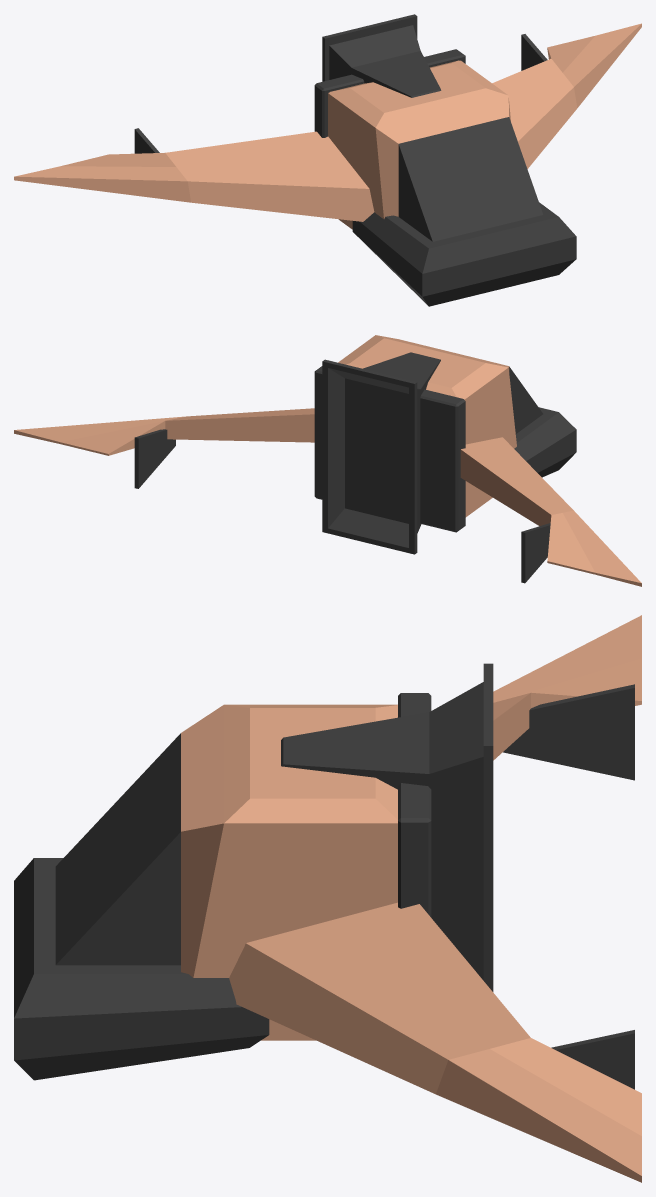
File: Ship2.fbx
The picture shows the model from 3 angles, top to bottom: view 1: azimuth 30°, elevation 25°; view 2: azimuth 150°, elevation 25°; view 3: azimuth 270°, elevation 25°; orthographic projection. The views are drawn at different scales.
Parts seen in each view (by area): view 1: ArmorPlate.001, Wing.001, Jet.001; view 2: Jet.001, Wing.001, ArmorPlate.001; view 3: ArmorPlate.001, Wing.001, Jet.001.
Boxes of the visible parts, left/top/right/bottom form: ArmorPlate.001: left=328, top=60, right=576, bottom=306; Wing.001: left=14, top=23, right=641, bottom=221; Jet.001: left=314, top=14, right=465, bottom=137; Jet.001: left=314, top=352, right=465, bottom=554; Wing.001: left=14, top=408, right=641, bottom=586; ArmorPlate.001: left=338, top=335, right=576, bottom=517; ArmorPlate.001: left=14, top=704, right=397, bottom=1080; Wing.001: left=229, top=615, right=641, bottom=1182; Jet.001: left=281, top=663, right=493, bottom=991.
Size of the model in its own units: 852 by 225 by 403.
